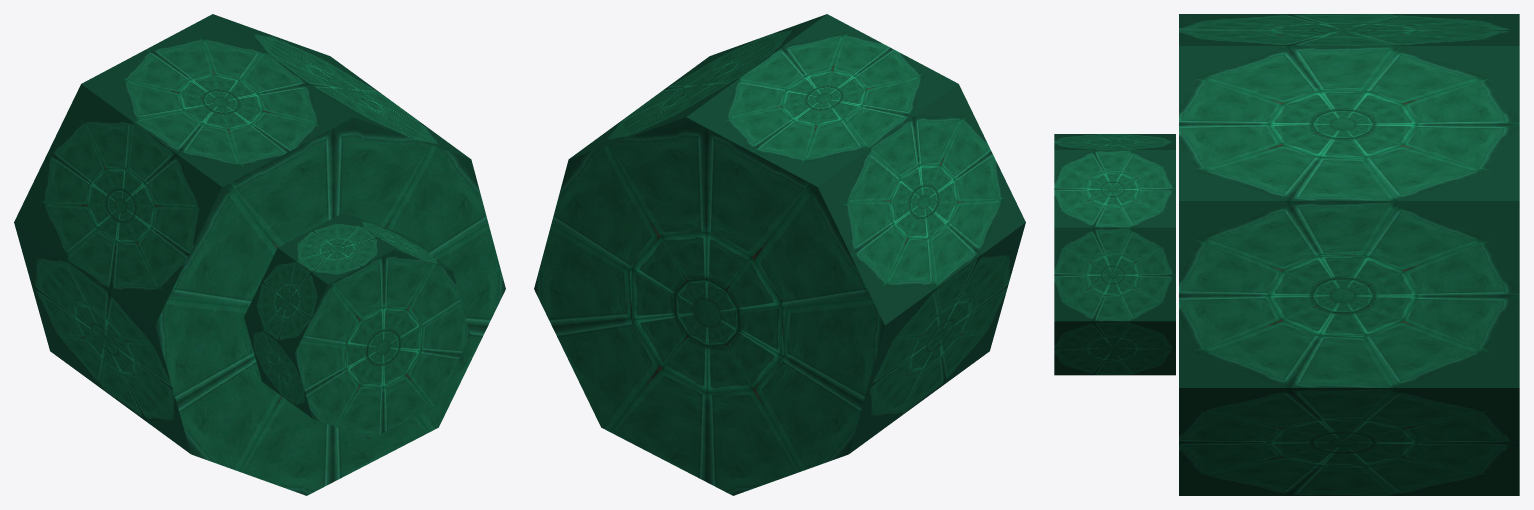
Rendered from block3dp_wtf.obj.
3 views of the same model, side by side, from view 1: azimuth 30°, elevation 25°; view 2: azimuth 150°, elevation 25°; view 3: azimuth 270°, elevation 25° (orthographic). The views are drawn at different scales.
Visible parts, largest first — view 1: group2; view 2: group2; view 3: group2.
Boxes of the visible parts, x1,y1,x2,y2 form: group2: [14, 14, 505, 495]; group2: [534, 14, 1025, 495]; group2: [1054, 14, 1519, 495].
Size of the model in its own units: 660 by 660 by 628.
